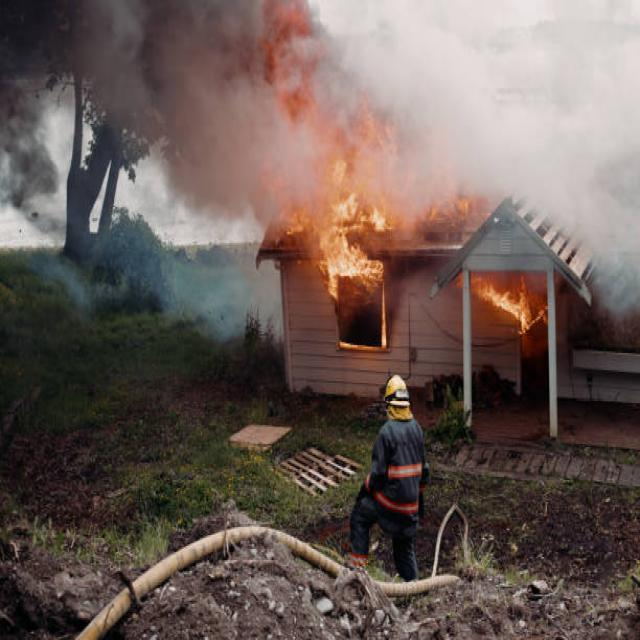Fire: (254, 0, 396, 288), (470, 272, 550, 333)
Smoke: (48, 0, 312, 244)
